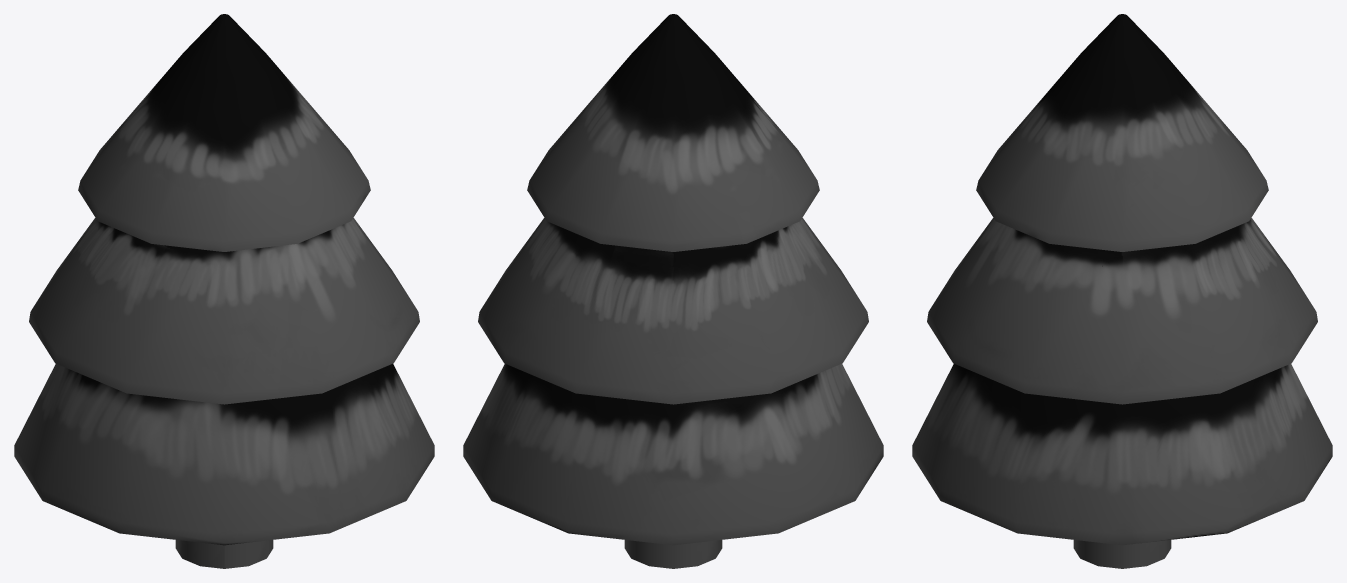
File: tree.fbx
3 views of the same model, side by side, from view 1: azimuth 30°, elevation 25°; view 2: azimuth 150°, elevation 25°; view 3: azimuth 270°, elevation 25° (orthographic).
Parts seen in each view (by area): view 1: tree; view 2: tree; view 3: tree.
Boxes of the visible parts, bbox=[...] form: tree: bbox=[14, 14, 434, 568]; tree: bbox=[463, 14, 883, 568]; tree: bbox=[912, 14, 1332, 568].
Bounding box in the file's own units: 282 × 394 × 282.
